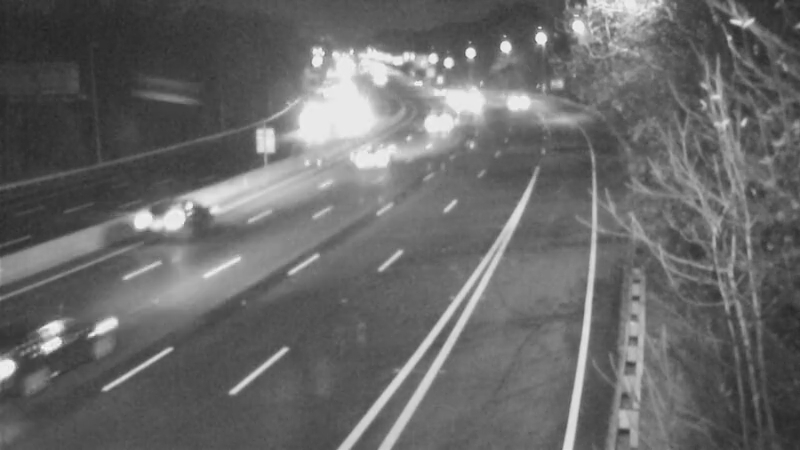vehicle: (1, 310, 90, 420), (339, 121, 419, 201), (133, 177, 213, 257), (492, 71, 542, 121), (429, 66, 479, 116), (445, 75, 495, 125), (424, 92, 474, 142), (287, 98, 337, 148)
